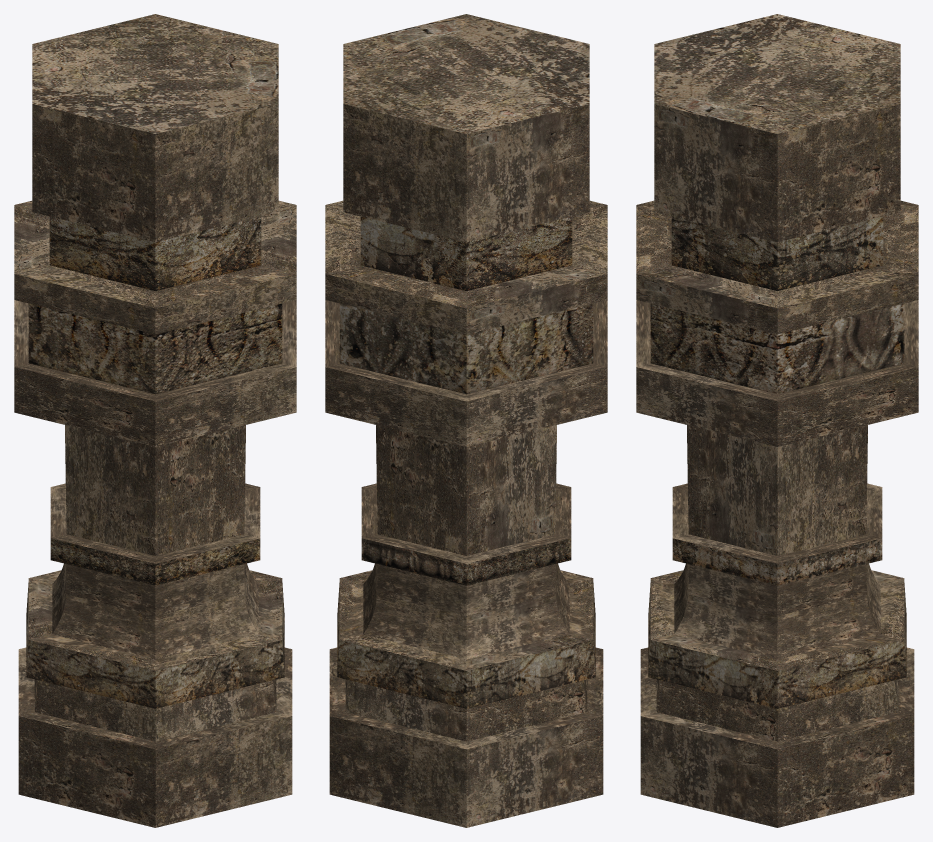
File: materials_5_pillar_short_1.fbx
3 renders of one model, left to right at view 1: azimuth 30°, elevation 25°; view 2: azimuth 150°, elevation 25°; view 3: azimuth 270°, elevation 25°, orthographic.
Parts seen in each view (by area): view 1: materials_5_pillar_short_1; view 2: materials_5_pillar_short_1; view 3: materials_5_pillar_short_1.
Part boxes in pixels (x1=…): materials_5_pillar_short_1: x1=14, y1=14, x2=296, y2=827; materials_5_pillar_short_1: x1=325, y1=14, x2=607, y2=827; materials_5_pillar_short_1: x1=636, y1=14, x2=918, y2=827.
Size of the model in its own units: 48.92 by 114 by 42.37.
